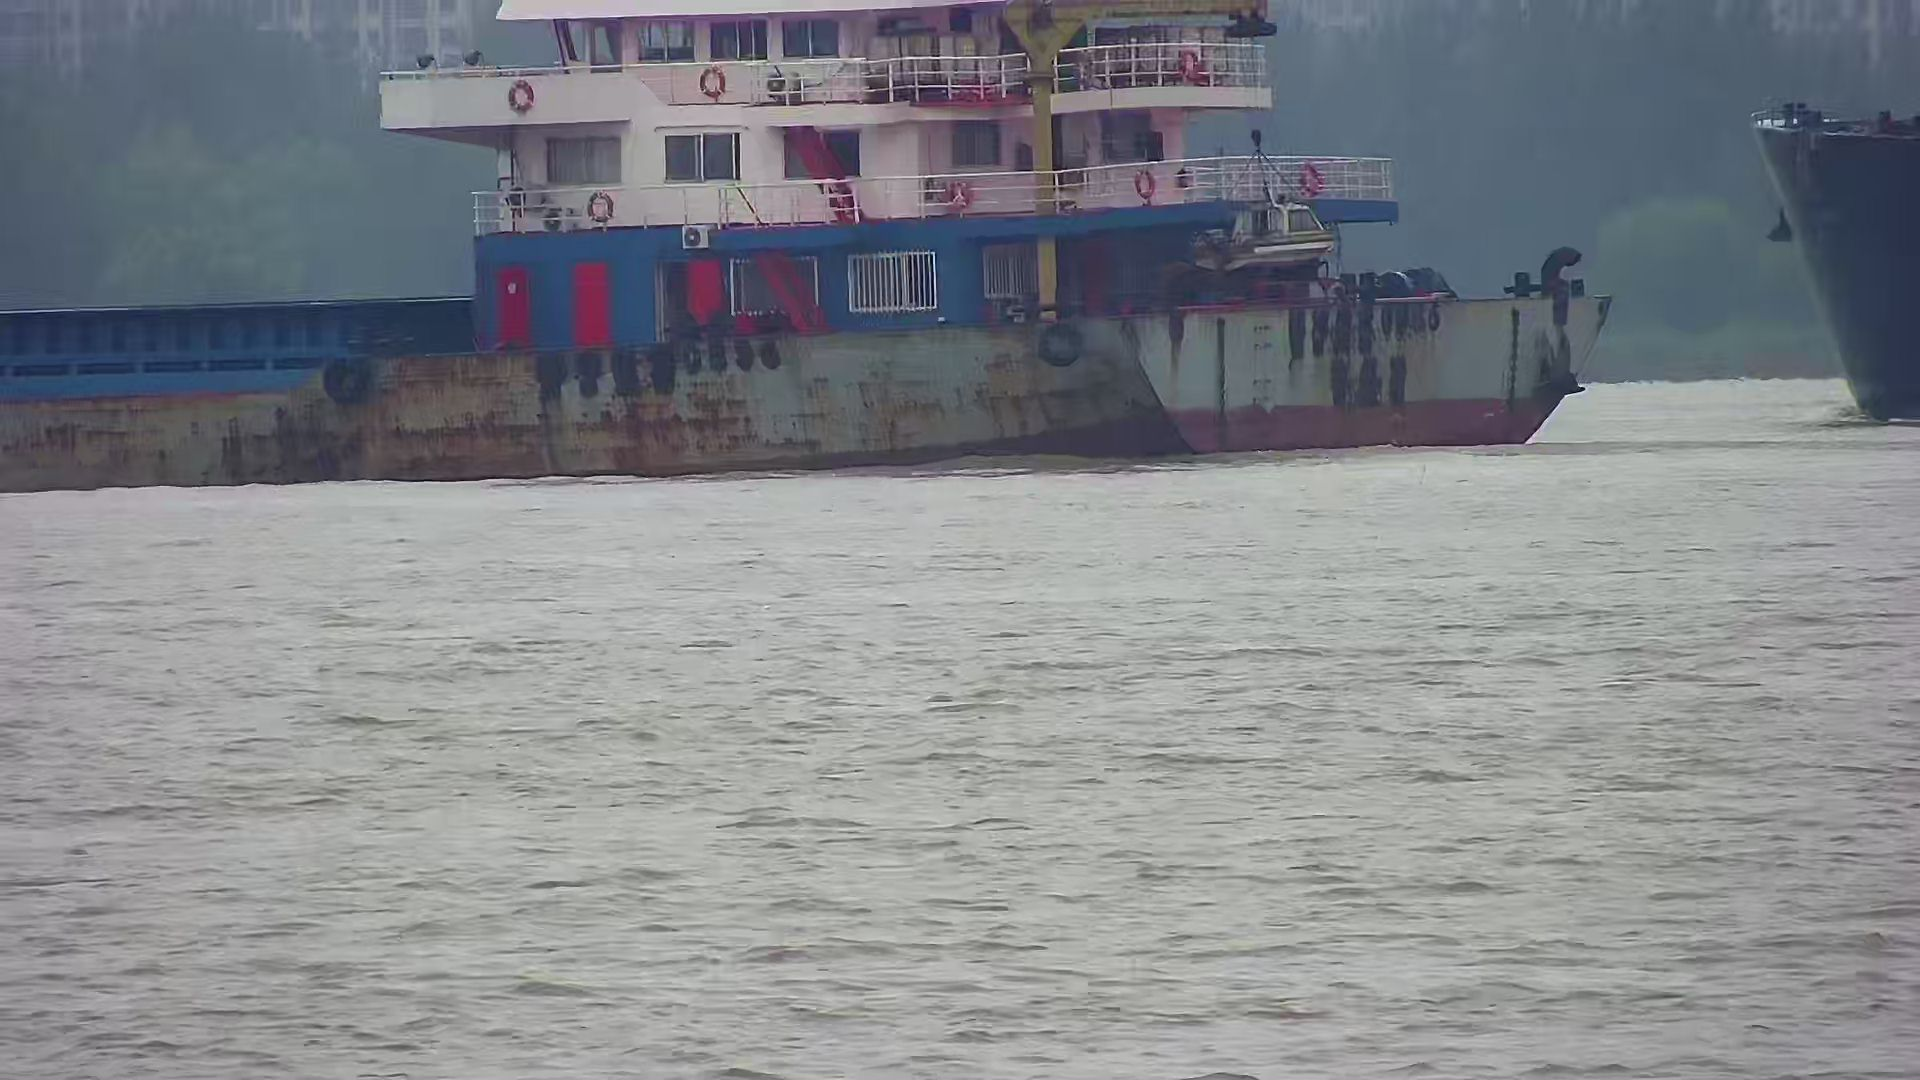ship: (1, 5, 1615, 491), (1754, 100, 1920, 421)
